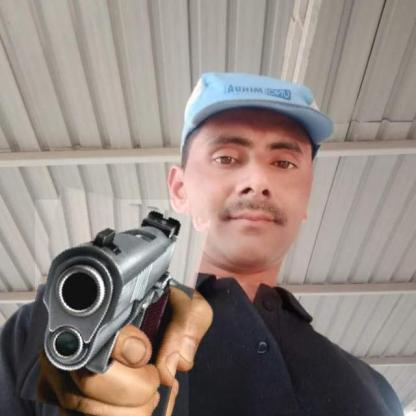handgun: (24, 192, 200, 416)
